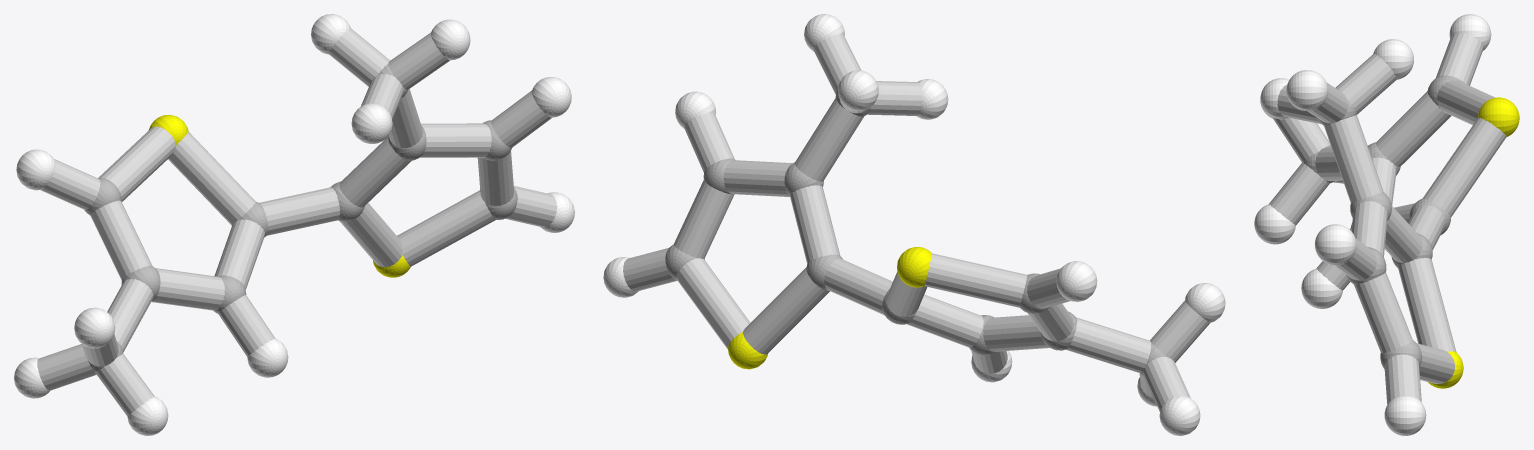
The model's file is Methylthiophene_Phi_20_Theta_70_Methylthiophene.glb.
3 views of the same model, side by side, from view 1: azimuth 30°, elevation 25°; view 2: azimuth 150°, elevation 25°; view 3: azimuth 270°, elevation 25° (orthographic).
Visible parts, largest first — view 1: grp7965, grp3621, grp1, grp7241; view 2: grp7965, grp3621, grp1, grp7241; view 3: grp7965, grp3621, grp1, grp7241.
Part boxes in pixels (<box>): grp7965: <box>37,28,557,416</box>; grp3621: <box>14,14,574,435</box>; grp1: <box>84,64,517,373</box>; grp7241: <box>149,114,410,277</box>; grp7965: <box>623,34,1210,411</box>; grp3621: <box>603,14,1225,435</box>; grp1: <box>665,91,1165,376</box>; grp7241: <box>728,247,931,369</box>; grp7965: <box>1269,33,1506,404</box>; grp3621: <box>1254,14,1491,435</box>; grp1: <box>1303,75,1463,368</box>; grp7241: <box>1428,97,1519,388</box>.
Bounding box in the file's own units: 9.69 × 5.22 × 3.82.
